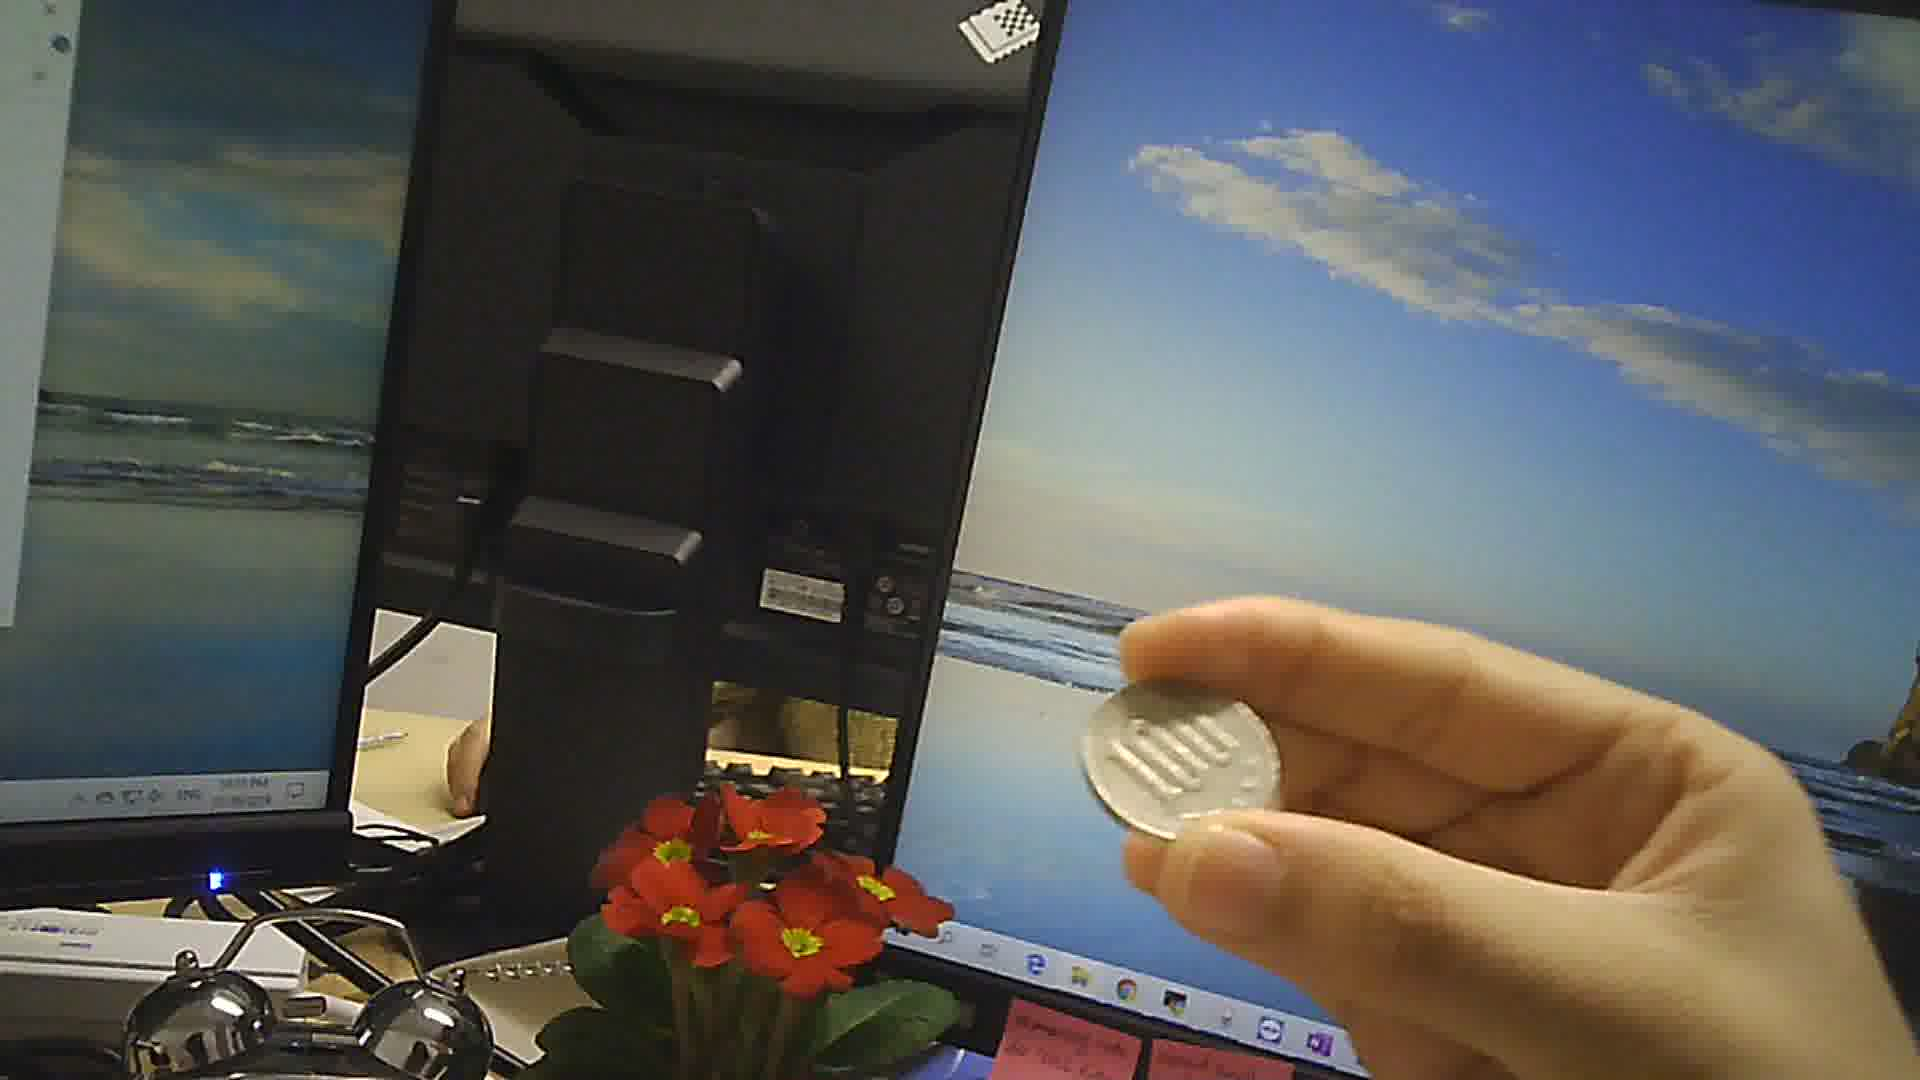100 Yen: (1075, 673, 1296, 845)
